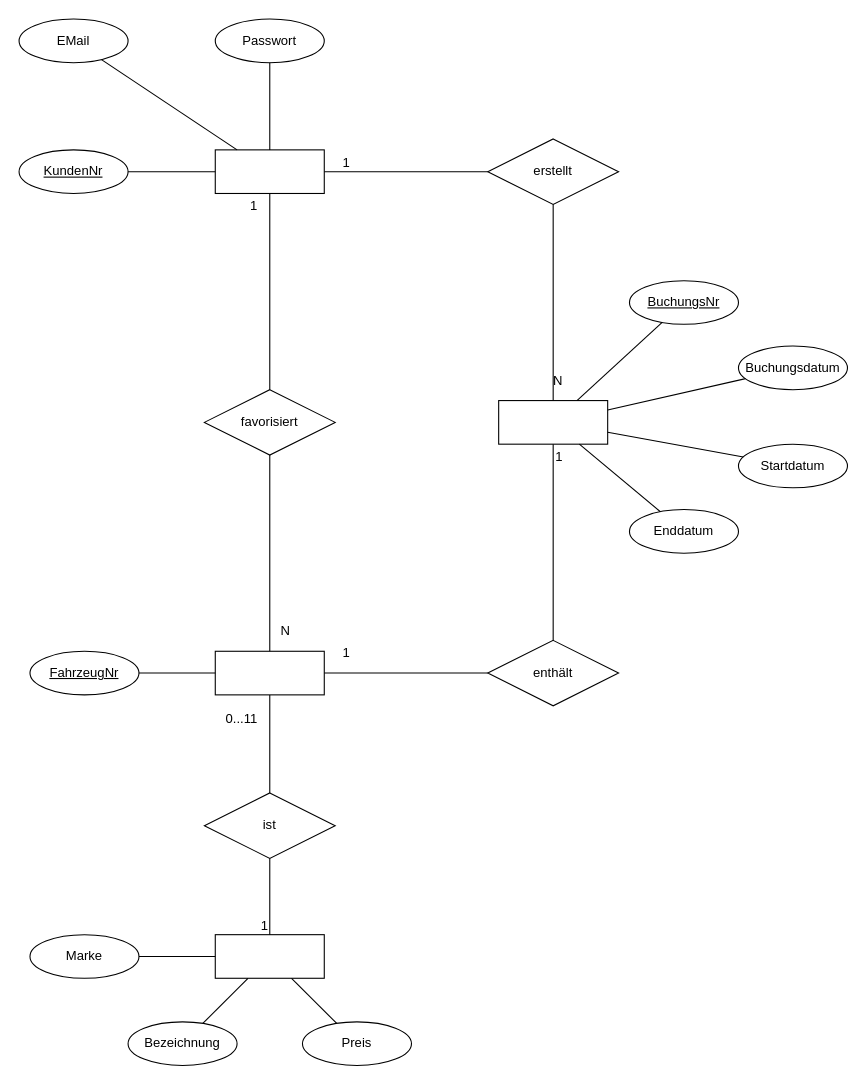
Image size: 867x1085. Some labels were removed from this diagram. The centre of each missing label's shape, as x and y in pixels:
"Buchung" goes at (553,421).
"Fahrzeug" goes at (269,672).
"Kunde" goes at (269,171).
"Modell" goes at (269,956).
